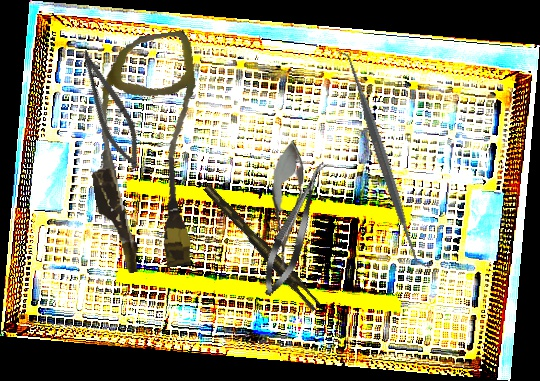Cannula: (73, 29, 222, 277)
Micro Scissor: (254, 156, 336, 301), (66, 45, 153, 174), (265, 139, 308, 271)
Spatula Surgical: (334, 44, 433, 276)
Tissue Forceps: (203, 178, 322, 316)
